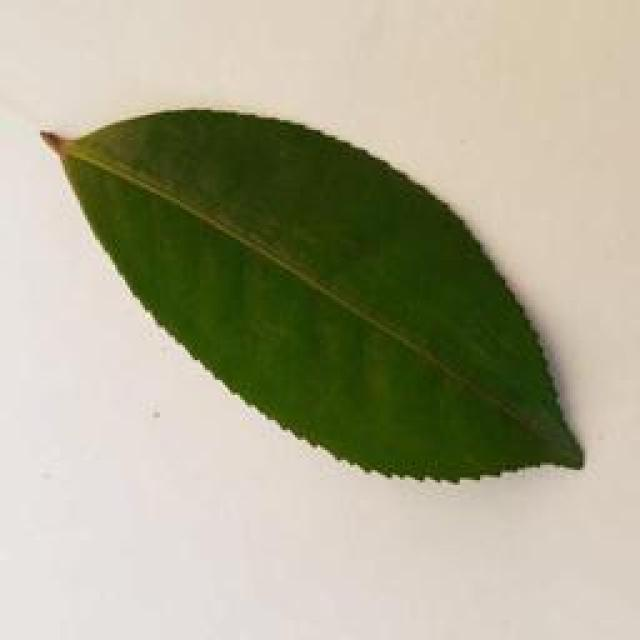Healthy: (31, 105, 592, 501)
